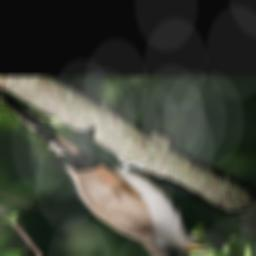Cuckoo: (0, 85, 213, 256)
